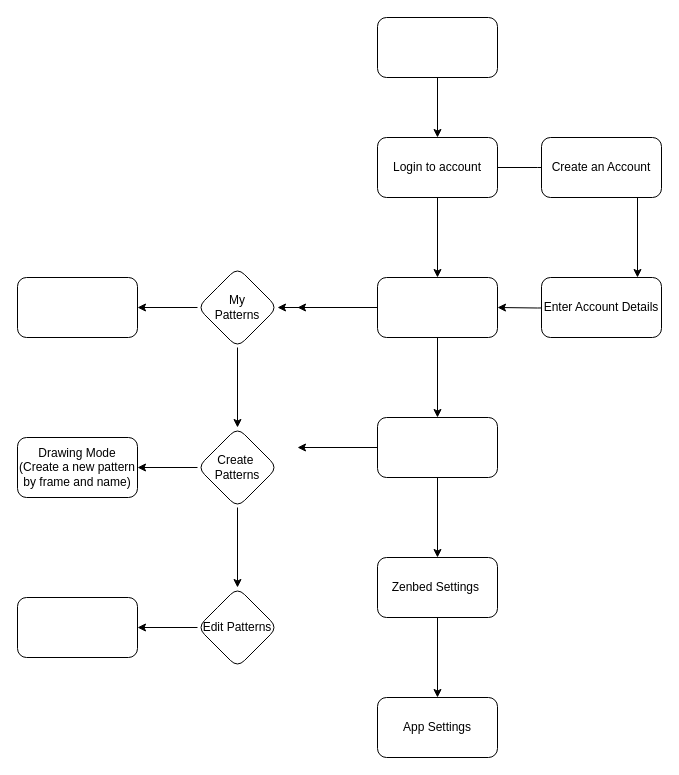
This 679x775 diagram has some shape labels left out. The shapes that lost their labels are listed below. From the top down, each one's box as (x1, y1, x2, y2) in pixels, then its label:
(376, 16, 498, 78): Loading Introductory Page
(16, 276, 138, 338): Pattern Casting (Send sequence)
(376, 276, 498, 338): Home Page
(376, 416, 498, 478): Drawing Mode
(16, 596, 138, 658): Drawing Mode (Edit current pattern and pattern sequence)
